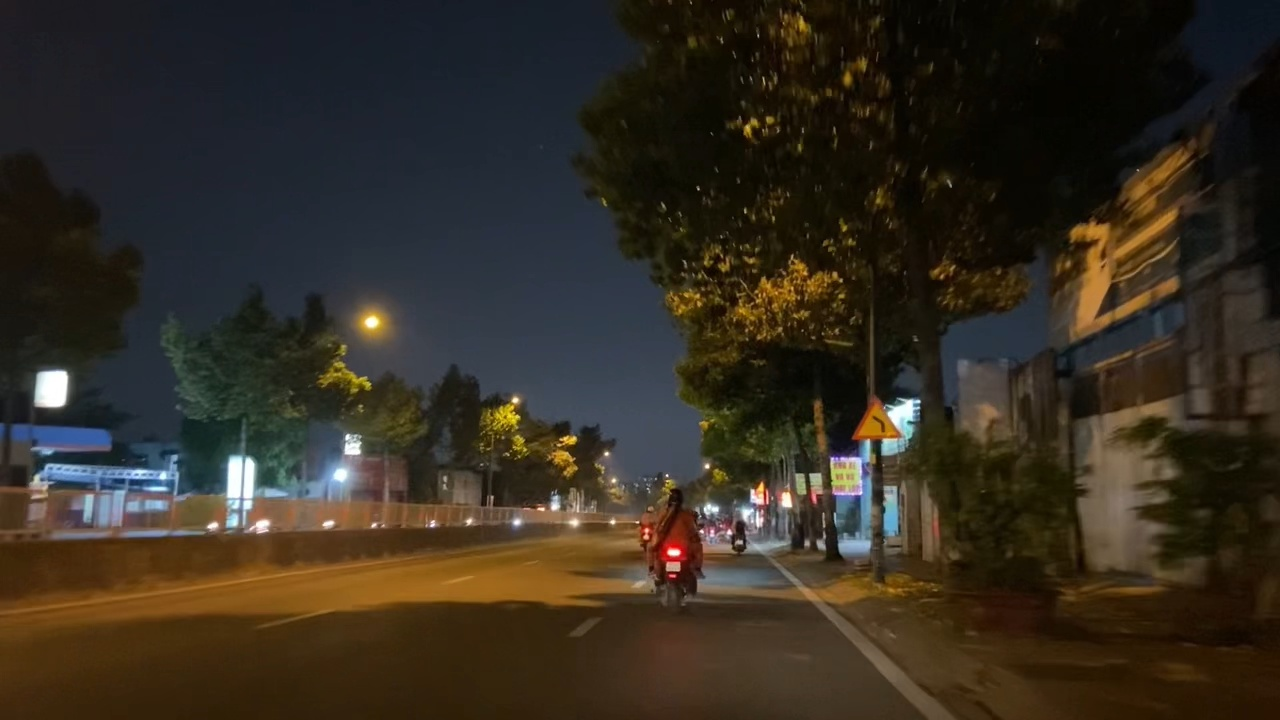duong_nghieng_trai: (846, 395, 904, 442)
